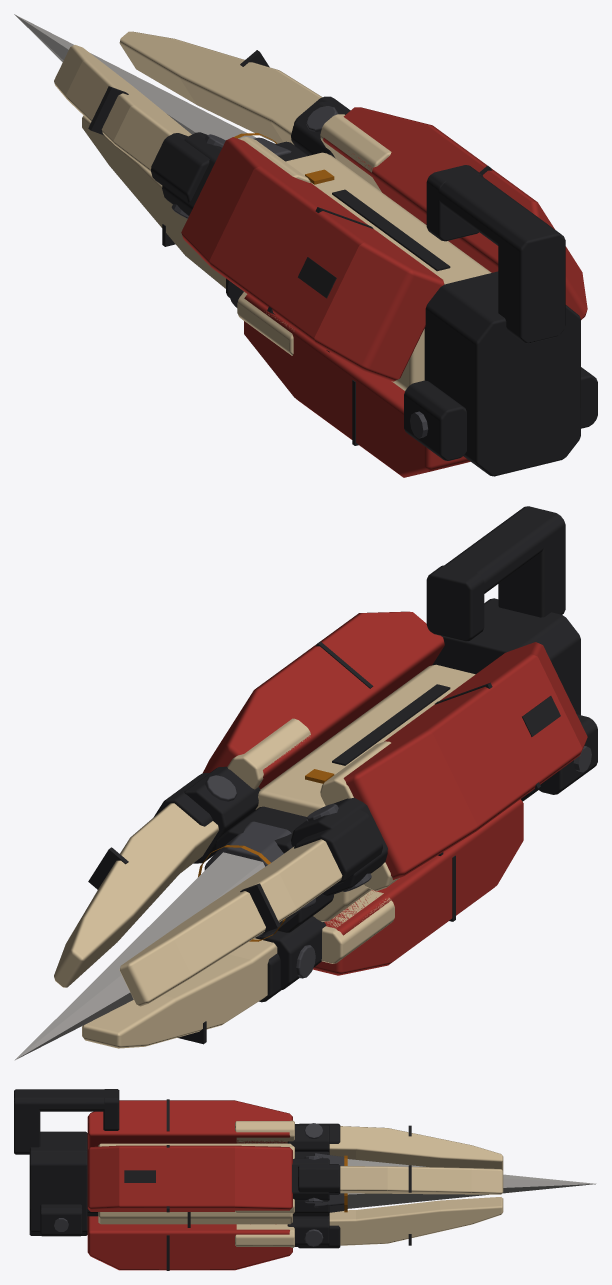
The model's file is pilebunker_4.glb.
3 views of the same model, one above another, from view 1: azimuth 30°, elevation 25°; view 2: azimuth 150°, elevation 25°; view 3: azimuth 270°, elevation 25° (orthographic). The views are drawn at different scales.
Parts seen in each view (by area): view 1: Petal1, BracketBack, Petal2, ClawArm0, Petal0, BracketLoopBack, ClawArm1, Sleeve, BracketLoopTop, ClawArm2, BracketLugL, SpikeBlade (+11 smaller); view 2: Petal1, Petal0, ClawArm1, Petal2, ClawArm0, ClawArm2, Sleeve, SpikeBlade, BracketBack, BracketLoopTop, BracketLoopBack, BracketLoopFront (+14 smaller); view 3: Petal0, Petal2, Petal1, ClawArm2, ClawArm1, BracketBack, ClawArm0, Sleeve, SpikeBlade, BracketLoopTop, BracketLoopBack, ClawKnuckle0 (+14 smaller).
Boxes of the visible parts, x1=… form: Petal1: x1=181, y1=137, x2=444, y2=381; BracketBack: x1=425, y1=271, x2=580, y2=476; Petal2: x1=244, y1=294, x2=470, y2=477; ClawArm0: x1=119, y1=31, x2=322, y2=144; Petal0: x1=323, y1=107, x2=587, y2=319; BracketLoopBack: x1=498, y1=217, x2=565, y2=343; ClawArm1: x1=54, y1=45, x2=191, y2=172; Sleeve: x1=285, y1=152, x2=491, y2=390; BracketLoopTop: x1=426, y1=165, x2=565, y2=263; ClawArm2: x1=82, y1=115, x2=225, y2=288; BracketLugL: x1=404, y1=380, x2=466, y2=460; SpikeBlade: x1=14, y1=14, x2=256, y2=140; Petal1: x1=343, y1=642, x2=587, y2=879; Petal0: x1=203, y1=611, x2=444, y2=789; ClawArm1: x1=119, y1=839, x2=342, y2=1006; Petal2: x1=313, y1=799, x2=523, y2=975; ClawArm0: x1=54, y1=803, x2=218, y2=987; ClawArm2: x1=82, y1=938, x2=277, y2=1048; Sleeve: x1=255, y1=664, x2=475, y2=921; SpikeBlade: x1=14, y1=852, x2=265, y2=1060; BracketBack: x1=432, y1=598, x2=580, y2=801; BracketLoopTop: x1=426, y1=506, x2=565, y2=605; BracketLoopBack: x1=498, y1=506, x2=565, y2=617; BracketLoopFront: x1=426, y1=565, x2=484, y2=641; Petal0: x1=87, y1=1145, x2=292, y2=1211; Petal2: x1=87, y1=1216, x2=292, y2=1270; Petal1: x1=87, y1=1100, x2=292, y2=1149; ClawArm2: x1=329, y1=1197, x2=503, y2=1245; ClawArm1: x1=329, y1=1126, x2=503, y2=1170; BracketBack: x1=29, y1=1131, x2=87, y2=1235; ClawArm0: x1=340, y1=1166, x2=503, y2=1194; Sleeve: x1=98, y1=1143, x2=292, y2=1224; SpikeBlade: x1=347, y1=1159, x2=596, y2=1208; BracketLoopTop: x1=14, y1=1089, x2=119, y2=1111; BracketLoopBack: x1=14, y1=1089, x2=40, y2=1154; ClawKnuckle0: x1=298, y1=1164, x2=340, y2=1194.
Size of the model in its own units: 1.64 by 1.73 by 5.55.
